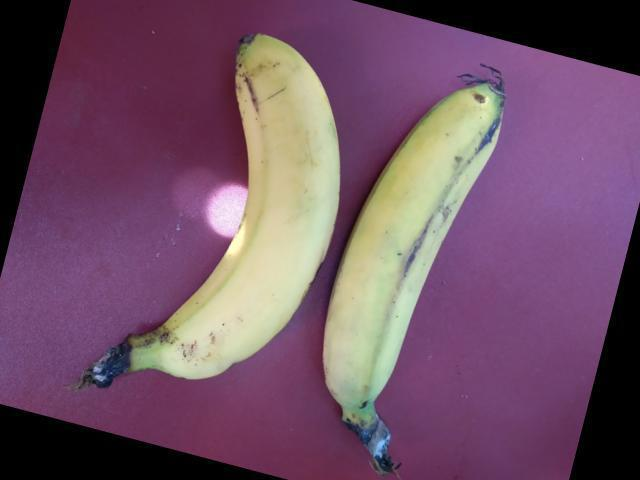freshripe: (182, 28, 361, 391)
ripe: (300, 74, 522, 460)
